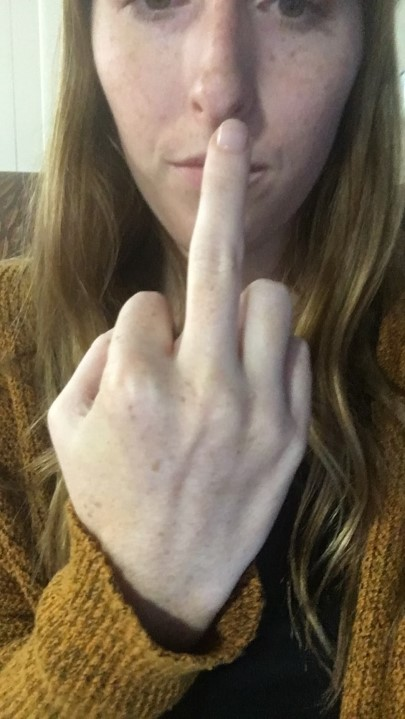hand: (45, 117, 309, 631)
